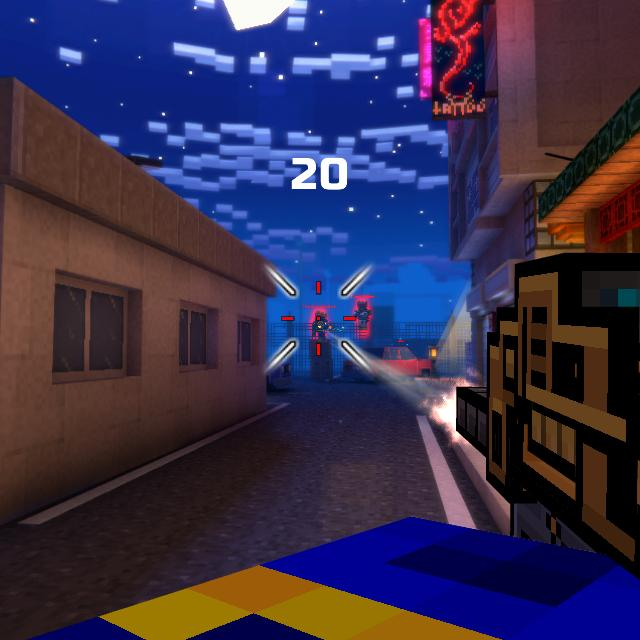Enemy: (313, 310, 331, 341), (354, 301, 372, 330)
